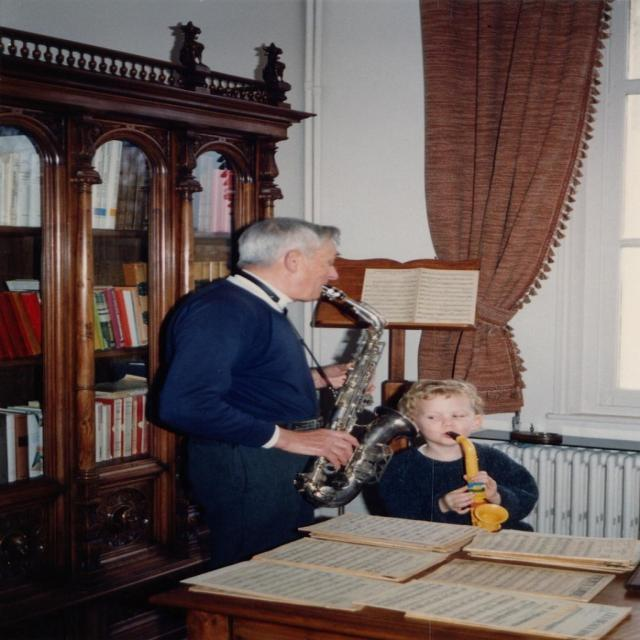saxophone: (308, 283, 422, 508), (440, 430, 510, 531)
